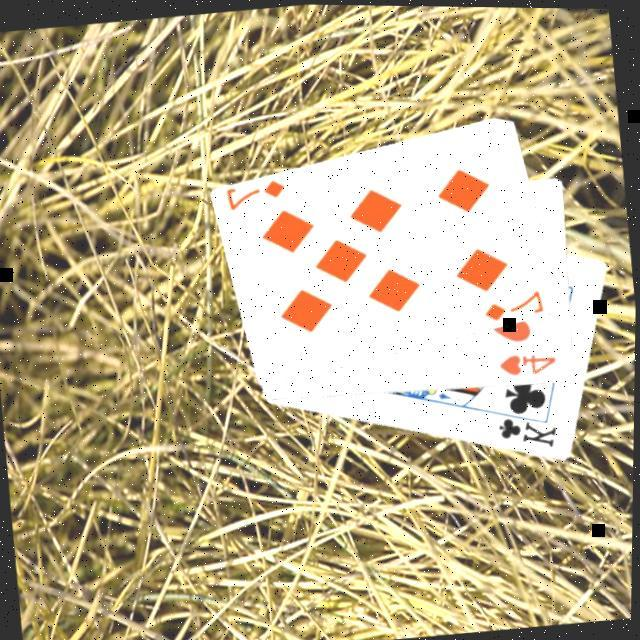4H: (498, 343, 563, 378)
7D: (482, 283, 549, 323), (225, 173, 292, 213)
KC: (494, 399, 565, 453)
